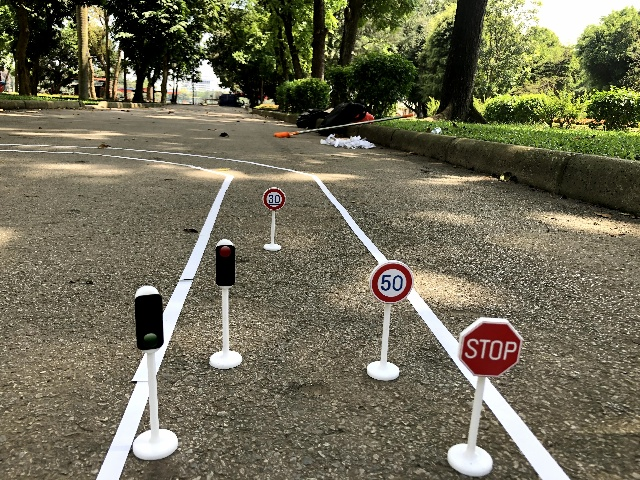Green Traffic Light: (129, 280, 170, 357)
Red Traffic Light: (209, 235, 243, 293)
Speed Limit 30: (259, 182, 289, 214)
Speed Limit 50: (363, 254, 420, 308)
Stop Sign: (453, 313, 527, 382)
